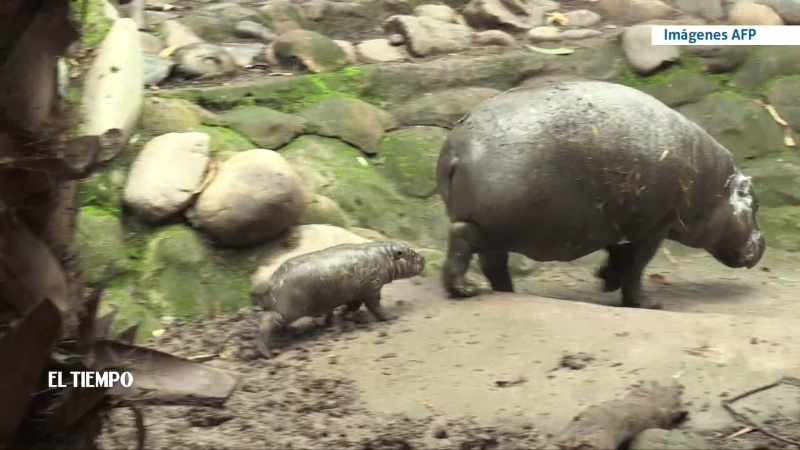hipopotamo: (424, 70, 779, 325), (238, 224, 432, 350)
